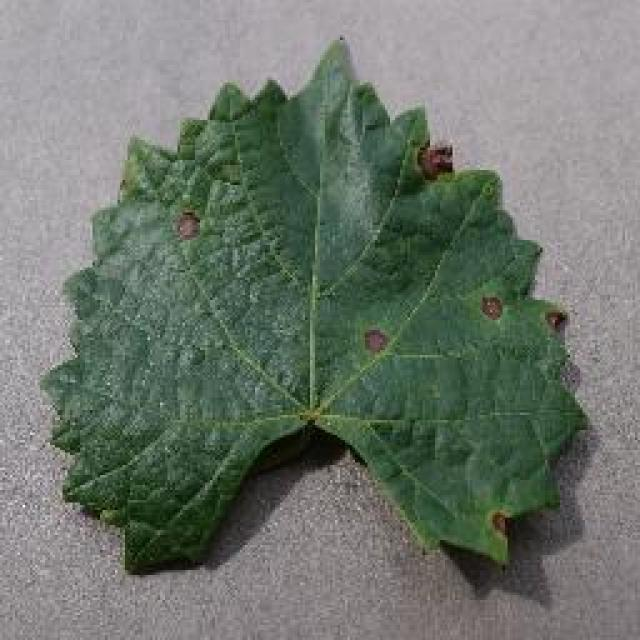Grape___Black_rot: (35, 32, 599, 580)
